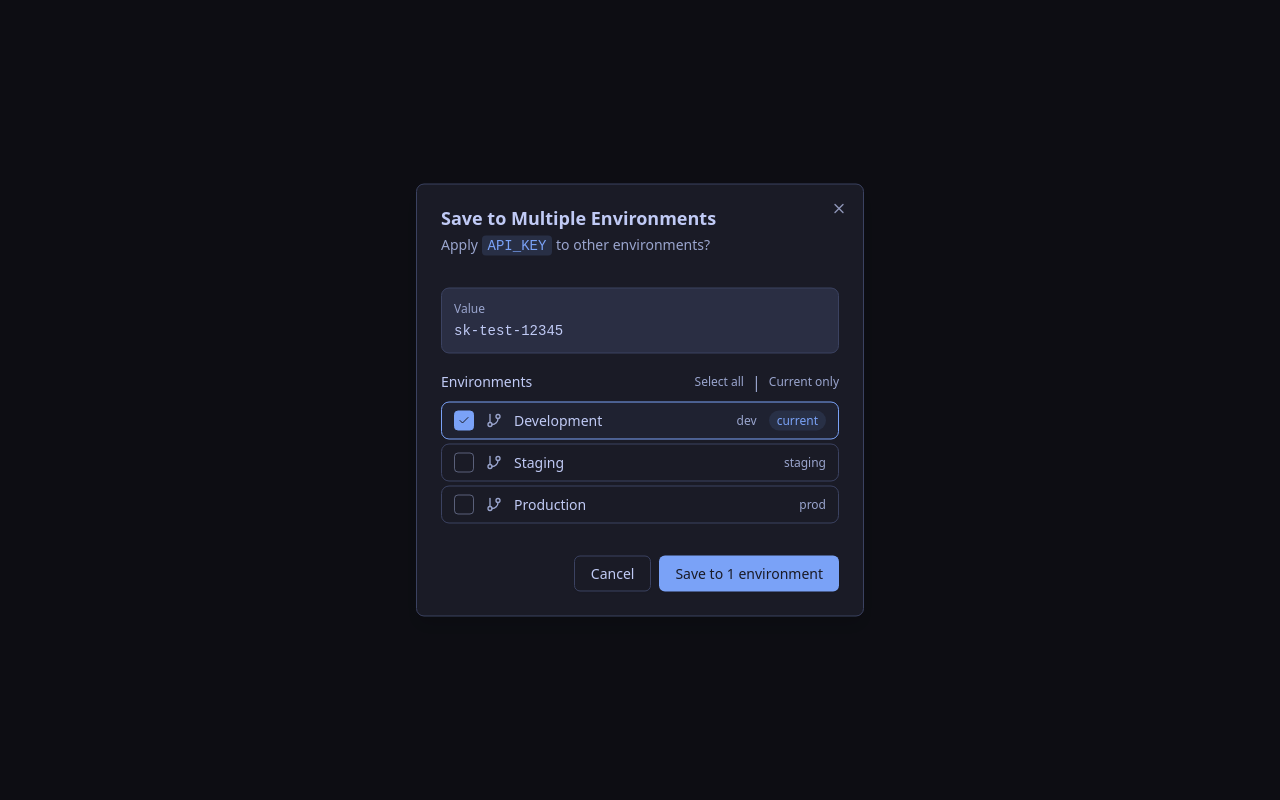
Test: MultiEnvSaveModal › allows selecting additional environments
The width and height of the screenshot is (1280, 800).
Click the button "Staging staging": coordinates (539, 462) [441,444,839,482]
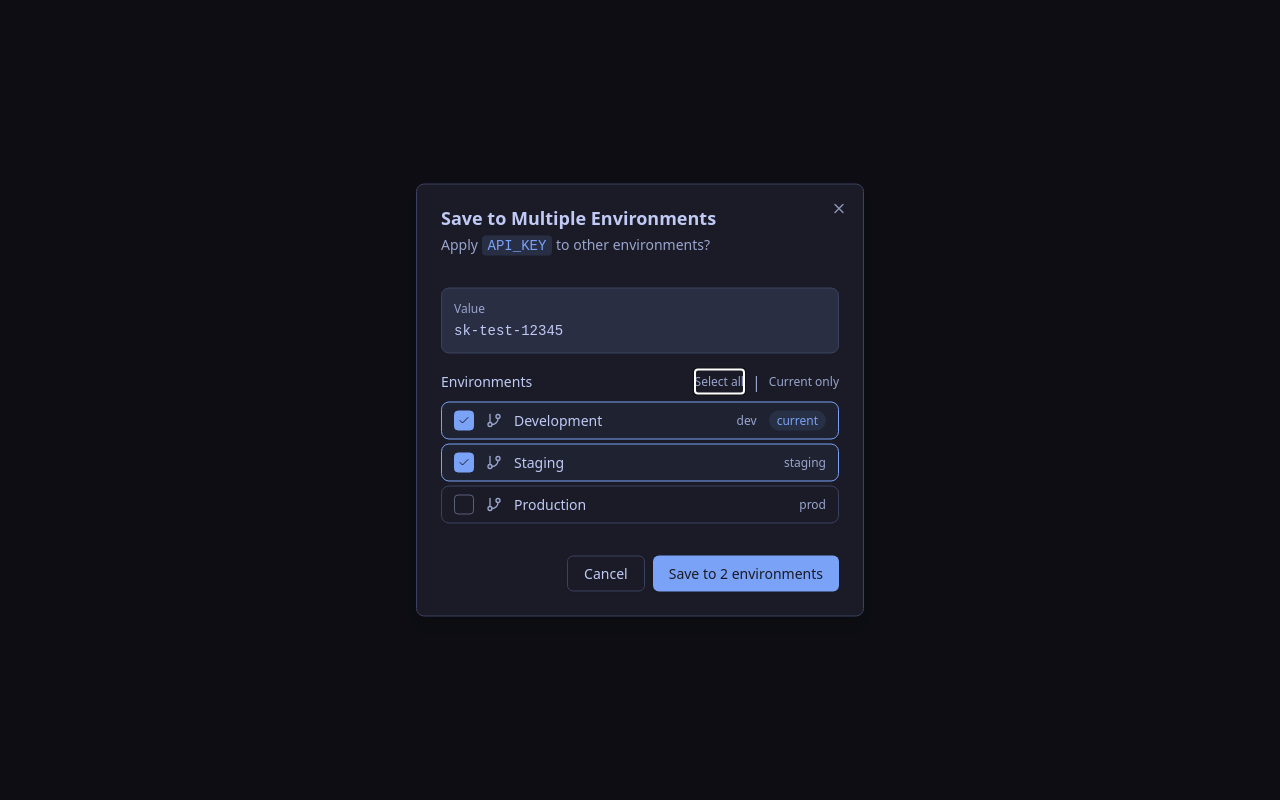
Result: the button "Save to 2 environments" is shown at [653,556,839,592]
